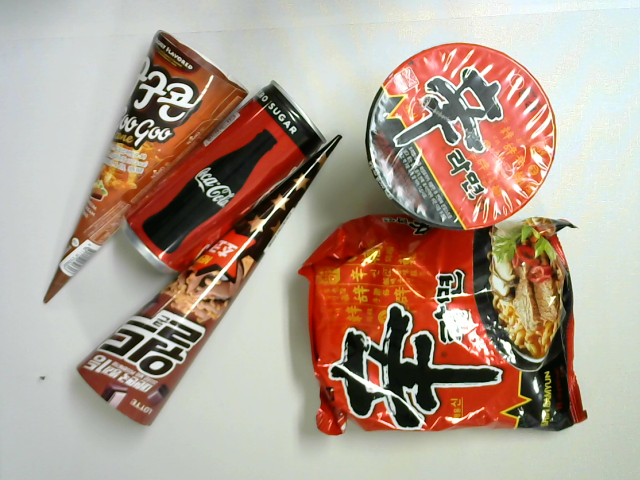Coca_Cola_Zero_Can_250ml: (119, 79, 327, 279)
GooGoo_Cone_CVS: (38, 30, 248, 317)
Sinramen: (301, 209, 599, 440)
Sinramen_small: (365, 39, 557, 237)
World_Cone_Choco: (74, 131, 352, 430)
